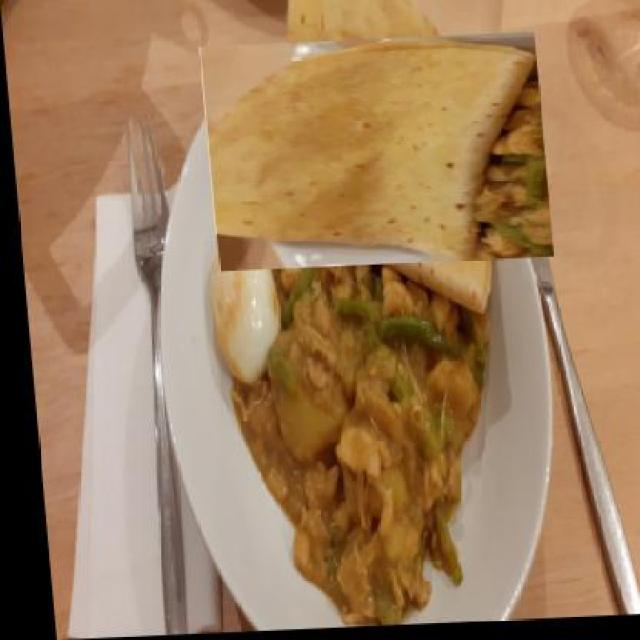chapati: (223, 10, 525, 302)
